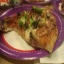pizza: (15, 4, 54, 56)
